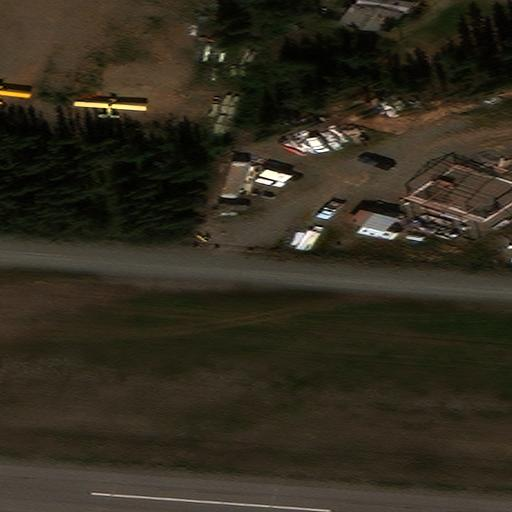Small Civil Transport: (74, 97, 145, 119), (0, 85, 31, 102)
